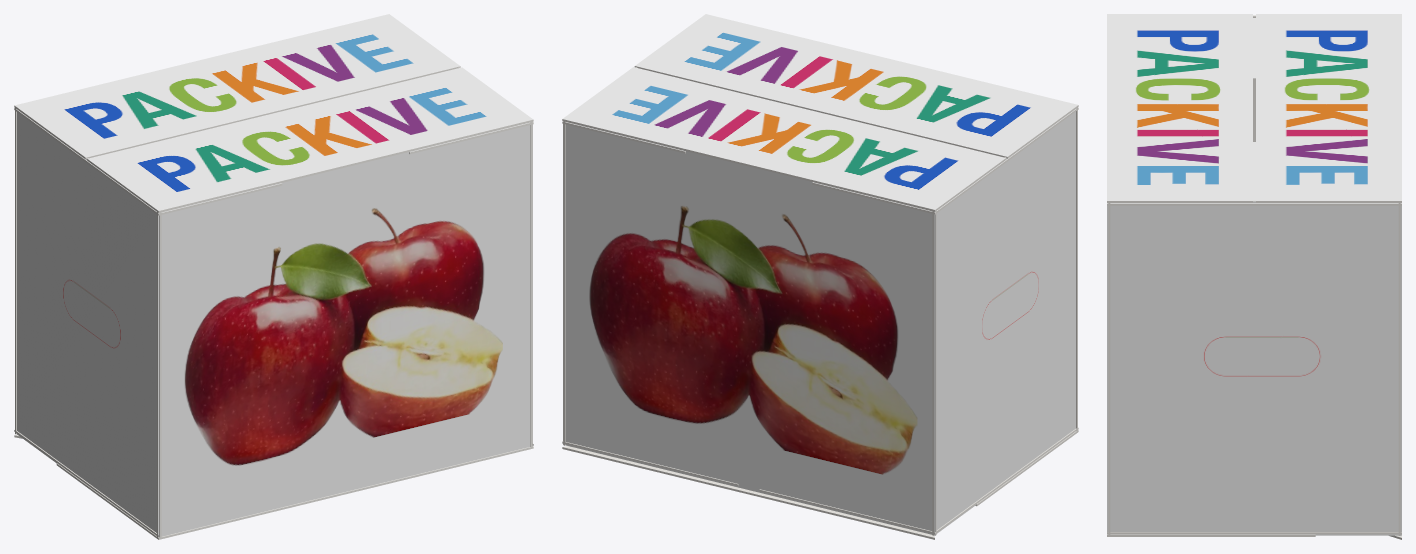
3 renders of one model, left to right at view 1: azimuth 30°, elevation 25°; view 2: azimuth 150°, elevation 25°; view 3: azimuth 270°, elevation 25°, orthographic. The views are drawn at different scales.
Parts seen in each view (by area): view 1: Packive_Box_fefco0216; view 2: Packive_Box_fefco0216; view 3: Packive_Box_fefco0216.
Boxes of the visible parts, <box> form: Packive_Box_fefco0216: <box>14,14,533,539</box>; Packive_Box_fefco0216: <box>562,14,1078,539</box>; Packive_Box_fefco0216: <box>1107,14,1401,539</box>.
Size of the model in its own units: 0.3 by 0.2538 by 0.2.
24 materials, 12 textured.
